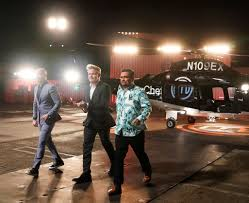Bad: (72, 63, 153, 195), (25, 63, 111, 183)
